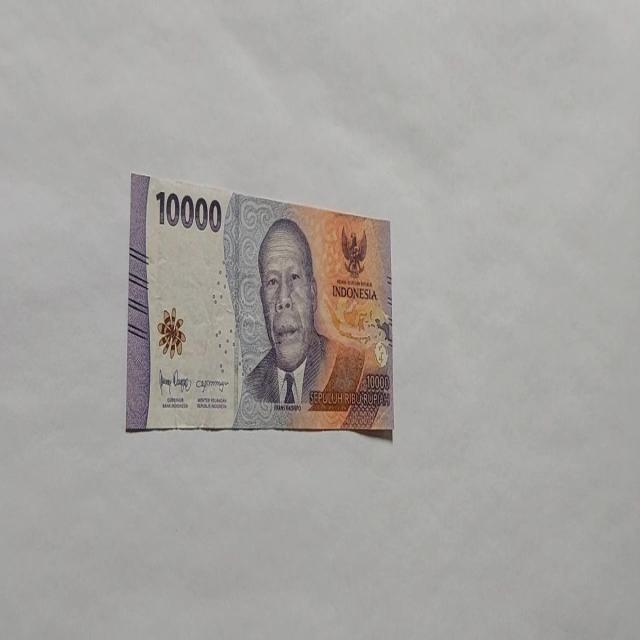Kertas: (125, 171, 395, 437), (154, 188, 222, 234)
